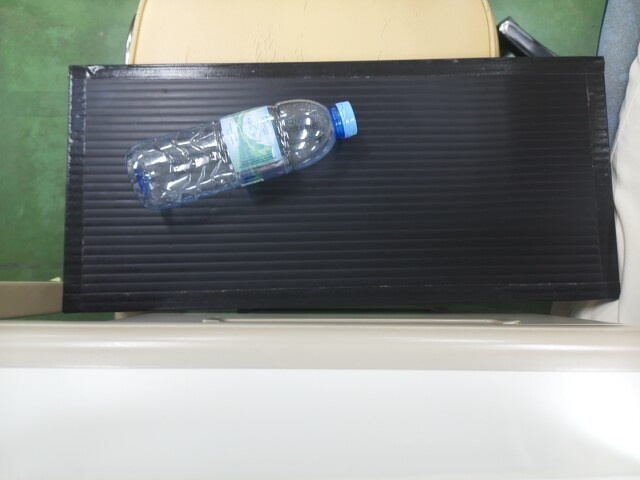plastic_bottle: (120, 95, 356, 203)
